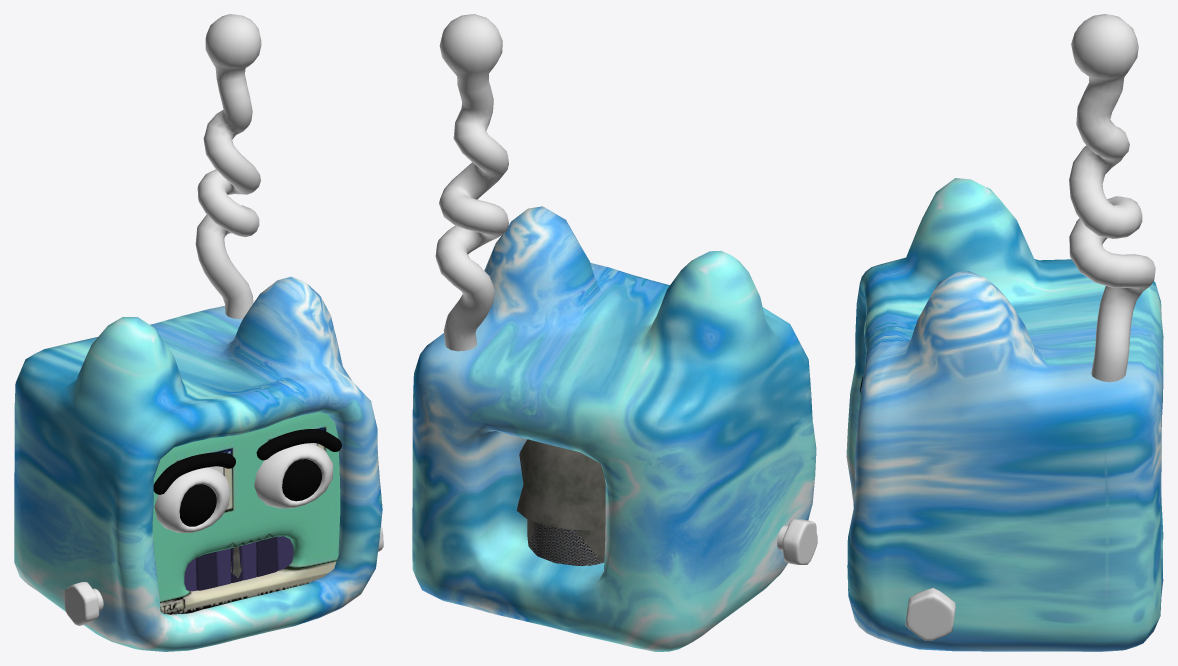
The model's file is tvmanhelm.glb.
The picture shows the model from 3 angles, left to right: view 1: azimuth 30°, elevation 25°; view 2: azimuth 150°, elevation 25°; view 3: azimuth 270°, elevation 25°; orthographic projection. The views are drawn at different scales.
Parts seen in each view (by area): view 1: Retopo_geom.030, Retopo_geom.031, Retopo_geom.012, Retopo_geom.009, Retopo_geom.006, Retopo_geom.004, Retopo_geom.005, Retopo_geom.007; view 2: Retopo_geom.030, Retopo_geom.012, helm, Retopo_geom.004; view 3: Retopo_geom.030, Retopo_geom.012, Retopo_geom.004.
Part boxes in pixels (bbox=[...]): Retopo_geom.030: bbox=[14, 276, 382, 651]; Retopo_geom.031: bbox=[152, 412, 340, 614]; Retopo_geom.012: bbox=[195, 14, 261, 318]; Retopo_geom.009: bbox=[153, 429, 341, 532]; Retopo_geom.006: bbox=[196, 537, 277, 590]; Retopo_geom.004: bbox=[64, 525, 383, 625]; Retopo_geom.005: bbox=[215, 542, 256, 586]; Retopo_geom.007: bbox=[184, 536, 293, 591]; Retopo_geom.030: bbox=[412, 206, 816, 651]; Retopo_geom.012: bbox=[435, 14, 508, 351]; helm: bbox=[516, 439, 605, 565]; Retopo_geom.004: bbox=[777, 519, 817, 564]; Retopo_geom.030: bbox=[846, 178, 1163, 651]; Retopo_geom.012: bbox=[1069, 14, 1155, 382]; Retopo_geom.004: bbox=[905, 588, 955, 640].
Bounding box in the file's own units: 0.4969 × 0.8305 × 0.3828.
Materials: 8 (3 with a texture image).
